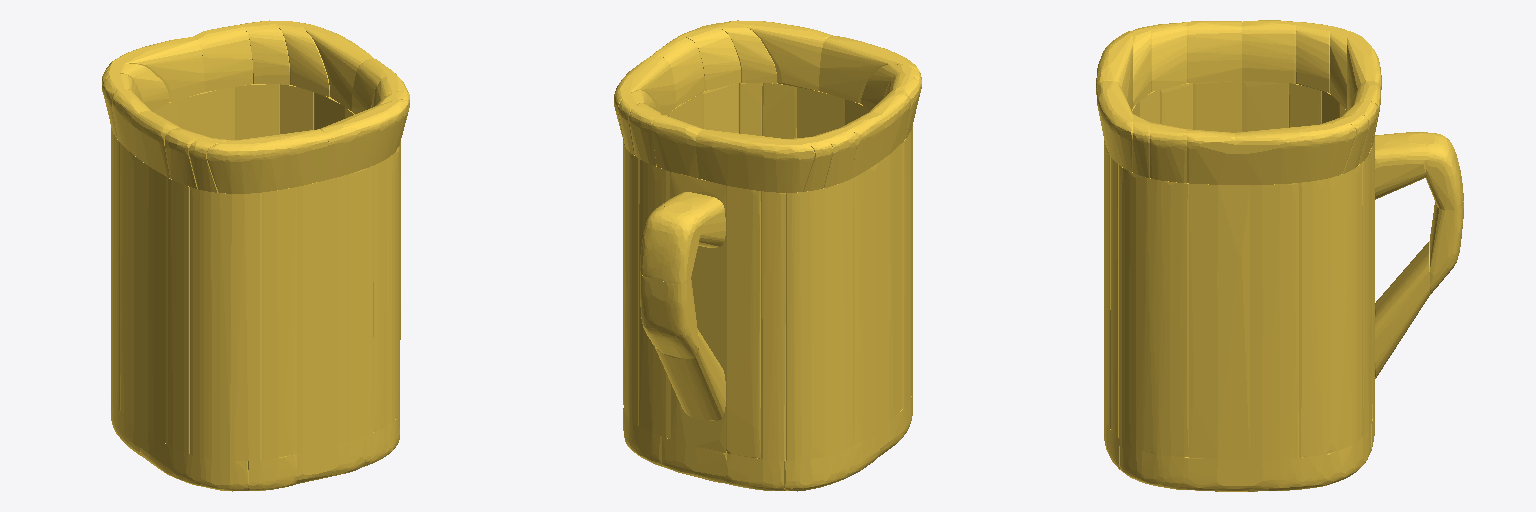
robot.urdf — 546.urdf:
<?xml version="1.0" ?>
<robot name="546.urdf">
	<link name="baseLink">
		<inertial>
			<origin rpy="0 0 0" xyz="0 0 0"/>
				<mass value="0.1"/>
				<inertia ixx="6e-5" ixy="0" ixz="0" iyy="6e-5" iyz="0" izz="6e-5"/>
		</inertial>
		<visual>
			<origin rpy="0 0 0" xyz="0 0 0"/>
			<geometry>
				<mesh filename="37_decom_wt.obj" scale="0.97 0.97 1.14"/>
			</geometry>
			<material name="yellow">
				<color rgba="0.98 0.84 0.35 1"/>
			</material>
		</visual>
		<collision>
			<origin rpy="0 0 0" xyz="0 0 0"/>
			<geometry>
				<mesh filename="37_decom_wt.obj" scale="0.97 0.97 1.14"/>
			</geometry>
		</collision>
	</link>
</robot>

--- Facts derived from the render (not from the file) ---
Views: 3 orthographic renders of the robot side by side, from view 1: azimuth 30°, elevation 25°; view 2: azimuth 150°, elevation 25°; view 3: azimuth 270°, elevation 25°.
Robot: 546.urdf — 1 links, 0 joints (none); root link baseLink; default pose: all joints at 0.
Visible links, largest first — view 1: baseLink; view 2: baseLink; view 3: baseLink.
Boxes of the visible links, x1,y1,x2,y2 form: baseLink: [102, 20, 409, 491]; baseLink: [614, 20, 921, 491]; baseLink: [1096, 20, 1463, 491].
Size in the robot's own frame: 0.1102 by 0.1424 by 0.1545 metres.
Meshes: 1 distinct files referenced, 1 mesh visuals loaded (1 OBJ).